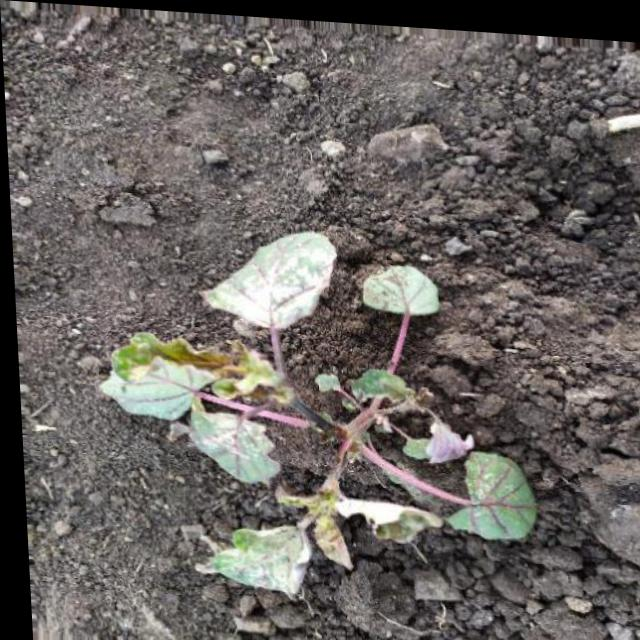weed: (77, 211, 535, 640)
